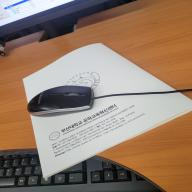mouse: (26, 84, 95, 119)
